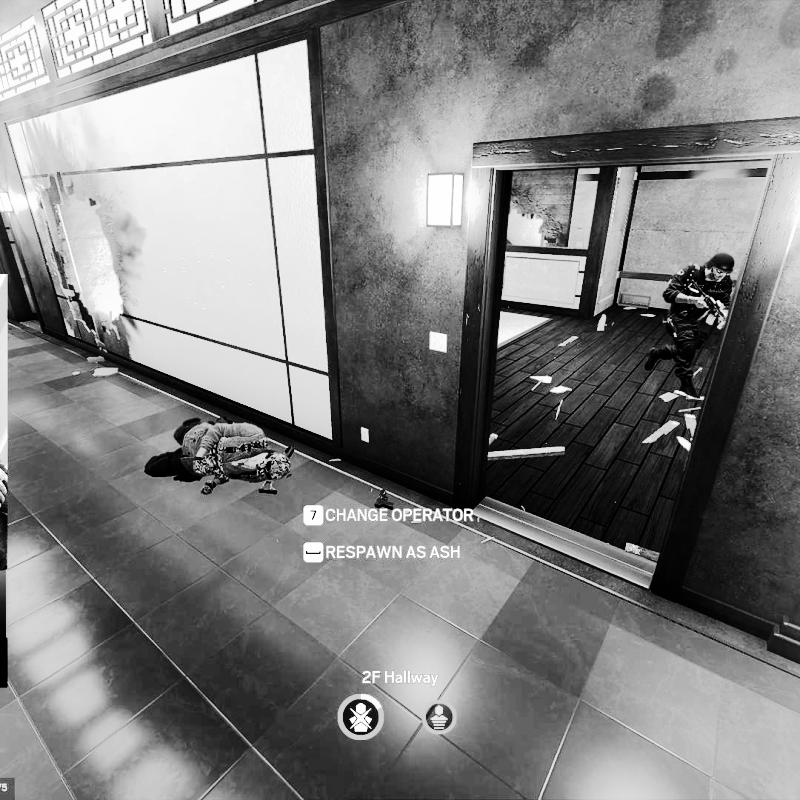Character: (643, 250, 741, 404), (140, 410, 296, 501)
Head: (254, 450, 292, 485), (706, 253, 739, 285)
